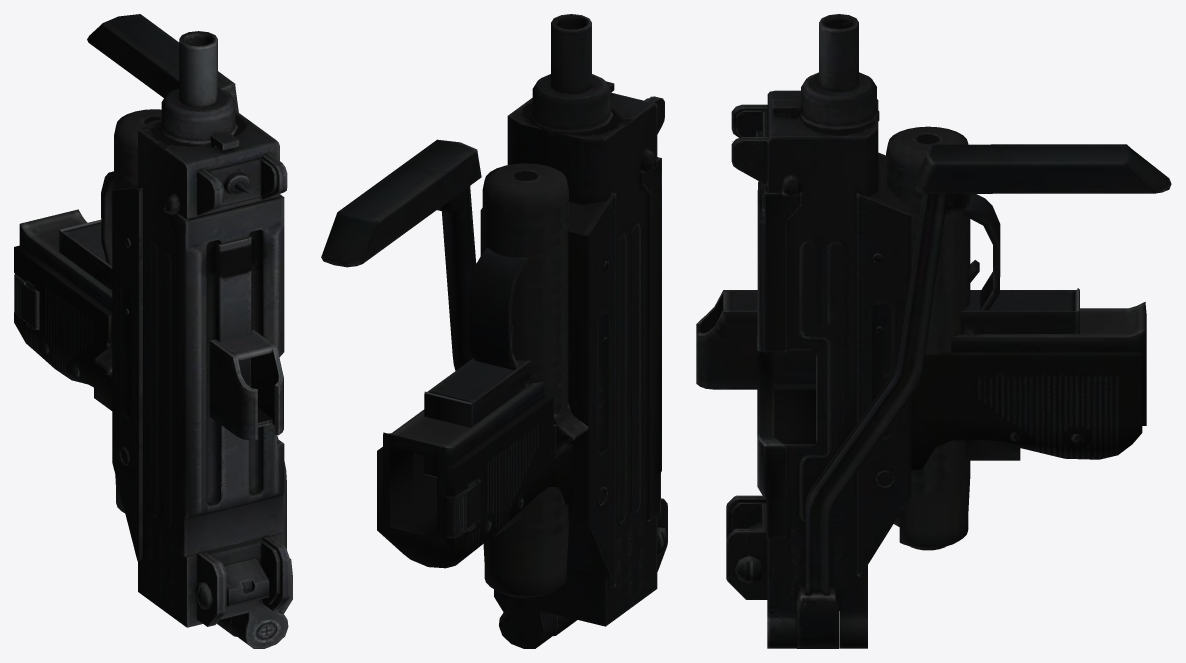
Rendered from Dual_Uzi_Micro.obj.
3 views of the same model, side by side, from view 1: azimuth 30°, elevation 25°; view 2: azimuth 150°, elevation 25°; view 3: azimuth 270°, elevation 25° (orthographic). The views are drawn at different scales.
Parts seen in each view (by area): view 1: Model_uzi_1, Model_Magazine, Model_silencer; view 2: Model_uzi_1, Model_silencer, Model_Magazine; view 3: Model_uzi_1, Model_silencer, Model_Magazine.
Part boxes in pixels (x1,y1,x2,y2): Model_uzi_1: [14, 14, 292, 648]; Model_Magazine: [59, 219, 283, 440]; Model_silencer: [114, 109, 161, 513]; Model_uzi_1: [321, 14, 667, 648]; Model_silencer: [482, 163, 568, 598]; Model_Magazine: [424, 358, 532, 477]; Model_uzi_1: [726, 14, 1171, 648]; Model_silencer: [886, 126, 970, 550]; Model_Magazine: [696, 288, 1079, 389].
Bounding box in the file's own units: 0.0676 × 0.2748 × 0.195.
Materials: 2 (2 with a texture image).
